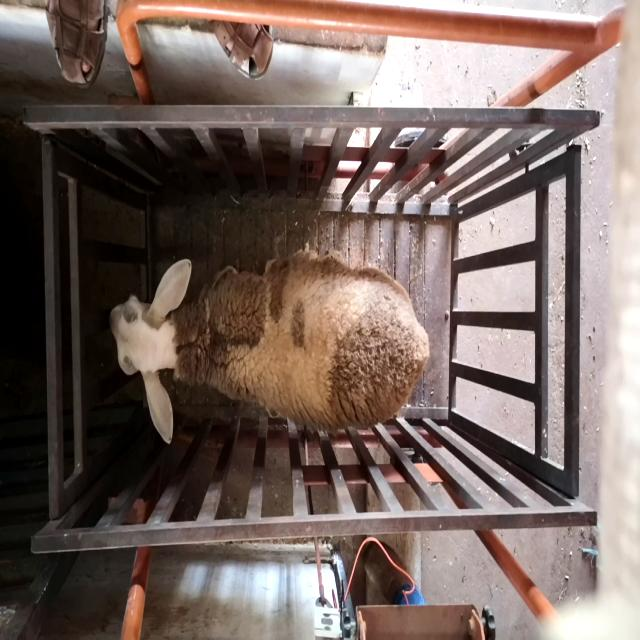sheep: (109, 250, 430, 444)
